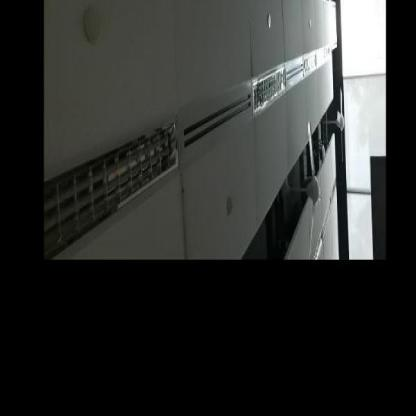light_off: (45, 106, 181, 260), (240, 44, 291, 125)
